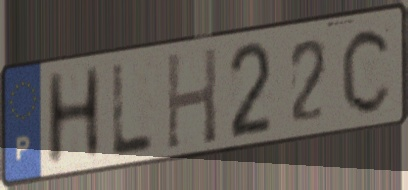2: (226, 38, 274, 142), (288, 36, 329, 126)
C: (339, 23, 395, 117)
H: (43, 62, 105, 172), (164, 44, 220, 154)
L: (109, 59, 157, 161)
